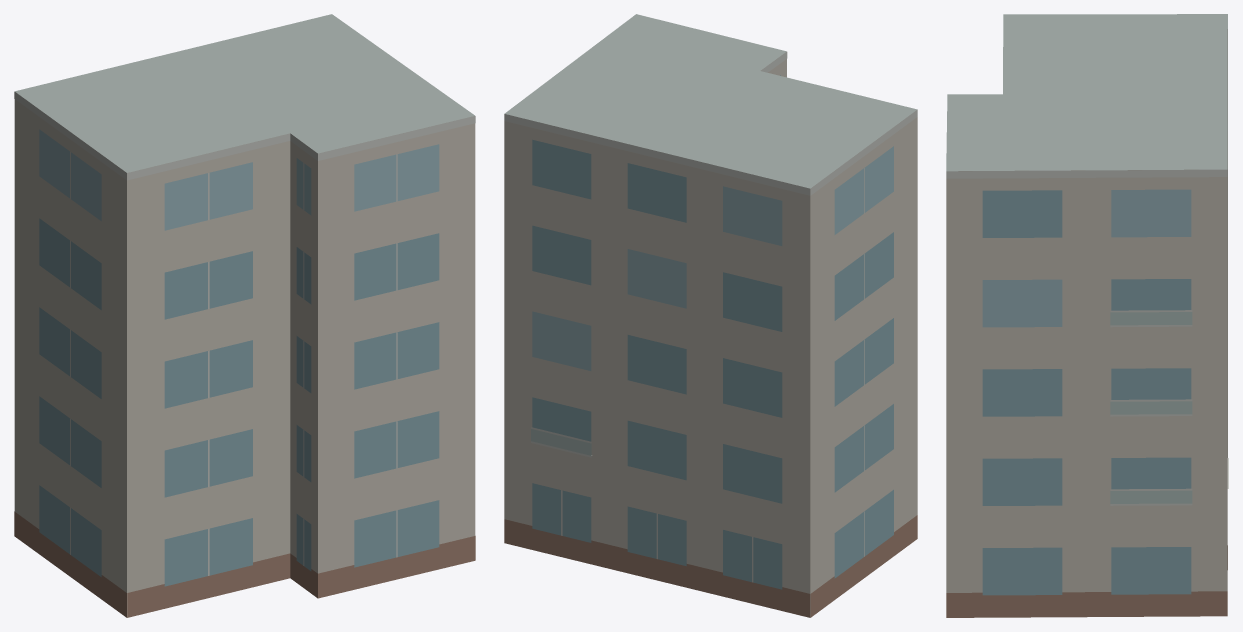
File: survey-upis-32926197.glb
3 views of the same model, side by side, from view 1: azimuth 30°, elevation 25°; view 2: azimuth 150°, elevation 25°; view 3: azimuth 270°, elevation 25° (orthographic). The views are drawn at different scales.
Visible parts, largest first — view 1: survey-upis-32926197.tmp; view 2: survey-upis-32926197.tmp; view 3: survey-upis-32926197.tmp.
Part boxes in pixels (x1,y1,x2,y2): survey-upis-32926197.tmp: (14,14,475,617); survey-upis-32926197.tmp: (504,14,917,617); survey-upis-32926197.tmp: (946,14,1228,617).
Bounding box in the file's own units: 10.95 × 14.5 × 8.33.
